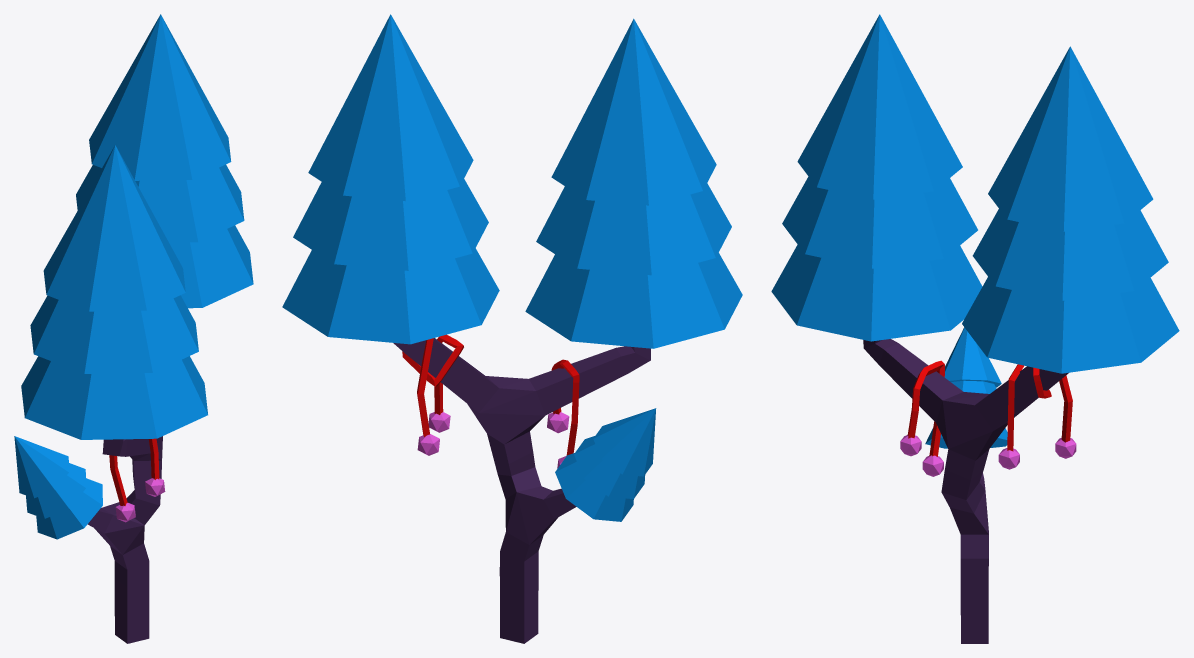
Rendered from Tree2.fbx.
The picture shows the model from 3 angles, left to right: view 1: azimuth 30°, elevation 25°; view 2: azimuth 150°, elevation 25°; view 3: azimuth 270°, elevation 25°; orthographic projection. The views are drawn at different scales.
Parts seen in each view (by area): view 1: Cone.002, Cone.006, Cone, Cone.001, Cube, Cone.007, Cone.008, Cone.003, Cone.005, Cone.004, Cube.002; view 2: Cube, Cone.002, Cone.006, Cone.008, Cone, Cone.007, Cone.001, Cone.003, Cone.005, Cone.004, Cube.001, Cube.002; view 3: Cone.002, Cone.006, Cone.008, Cube, Cone, Cone.007, Cone.001, Cone.003, Cube.001, Cube.002.
Part boxes in pixels (x1=…): Cone.002: x1=43, y1=145, x2=185, y2=311; Cone.006: x1=89, y1=14, x2=231, y2=180; Cone: x1=21, y1=356, x2=207, y2=439; Cone.001: x1=30, y1=295, x2=198, y2=373; Cube: x1=87, y1=436, x2=162, y2=643; Cone.007: x1=76, y1=164, x2=244, y2=242; Cone.008: x1=169, y1=225, x2=253, y2=308; Cone.003: x1=14, y1=436, x2=68, y2=498; Cone.005: x1=36, y1=478, x2=102, y2=539; Cone.004: x1=26, y1=463, x2=86, y2=518; Cube.002: x1=109, y1=438, x2=159, y2=505; Cube: x1=393, y1=338, x2=650, y2=643; Cone.002: x1=551, y1=18, x2=716, y2=205; Cone.006: x1=308, y1=14, x2=473, y2=201; Cone.008: x1=282, y1=248, x2=499, y2=344; Cone: x1=525, y1=253, x2=742, y2=348; Cone.007: x1=293, y1=179, x2=488, y2=270; Cone.001: x1=536, y1=183, x2=731, y2=275; Cone.003: x1=593, y1=408, x2=656, y2=476; Cone.005: x1=555, y1=453, x2=633, y2=521; Cone.004: x1=574, y1=436, x2=645, y2=498; Cube.001: x1=402, y1=334, x2=463, y2=436; Cube.002: x1=551, y1=359, x2=579, y2=455; Cone.002: x1=797, y1=14, x2=962, y2=199; Cone.006: x1=988, y1=46, x2=1153, y2=231; Cone.008: x1=962, y1=277, x2=1179, y2=373; Cube: x1=863, y1=339, x2=1068, y2=643; Cone: x1=771, y1=244, x2=982, y2=341; Cone.007: x1=972, y1=209, x2=1168, y2=300; Cone.001: x1=782, y1=176, x2=977, y2=268; Cone.003: x1=944, y1=327, x2=1001, y2=387; Cube.001: x1=1007, y1=364, x2=1072, y2=451; Cube.002: x1=907, y1=360, x2=944, y2=456.
Size of the model in its own units: 1231 by 2222 by 1304.
